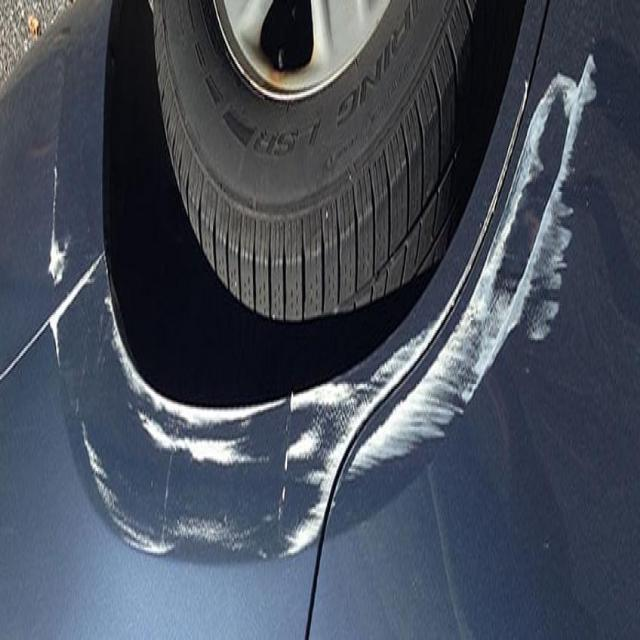scratch: (292, 24, 608, 600), (39, 291, 280, 559)
